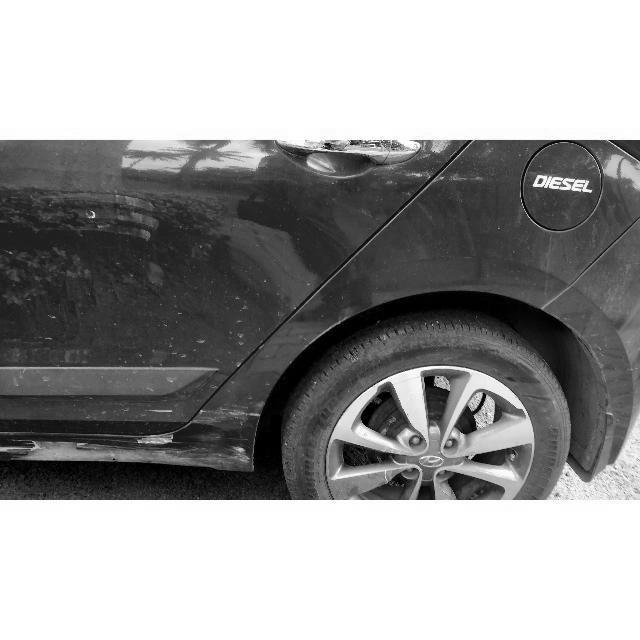Runningboard-Damage: (1, 426, 282, 479)
